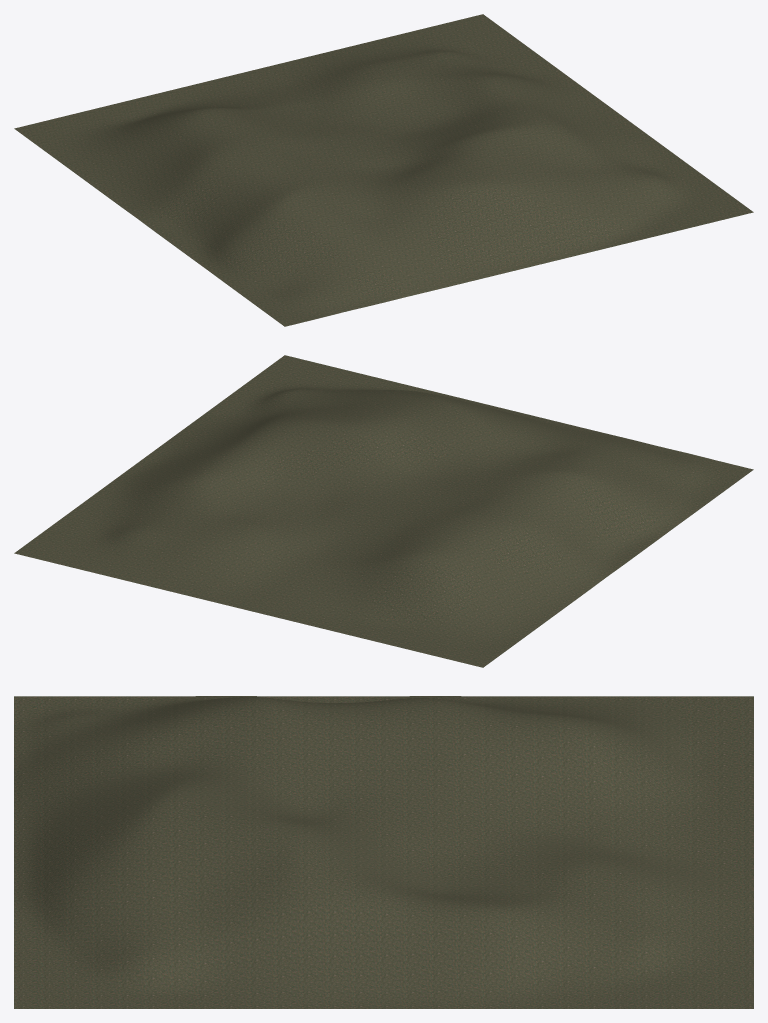
File: MontanasTiles.fbx
The picture shows the model from 3 angles, top to bottom: view 1: azimuth 30°, elevation 25°; view 2: azimuth 150°, elevation 25°; view 3: azimuth 270°, elevation 25°; orthographic projection. The views are drawn at different scales.
Parts seen in each view (by area): view 1: MontanasTiles; view 2: MontanasTiles; view 3: MontanasTiles.
Part boxes in pixels (<box>): MontanasTiles: <box>14,14,753,326</box>; MontanasTiles: <box>14,355,753,667</box>; MontanasTiles: <box>14,696,753,1008</box>.
Bounding box in the file's own units: 15920 × 1413 × 15920.
1 material, 1 textured.
